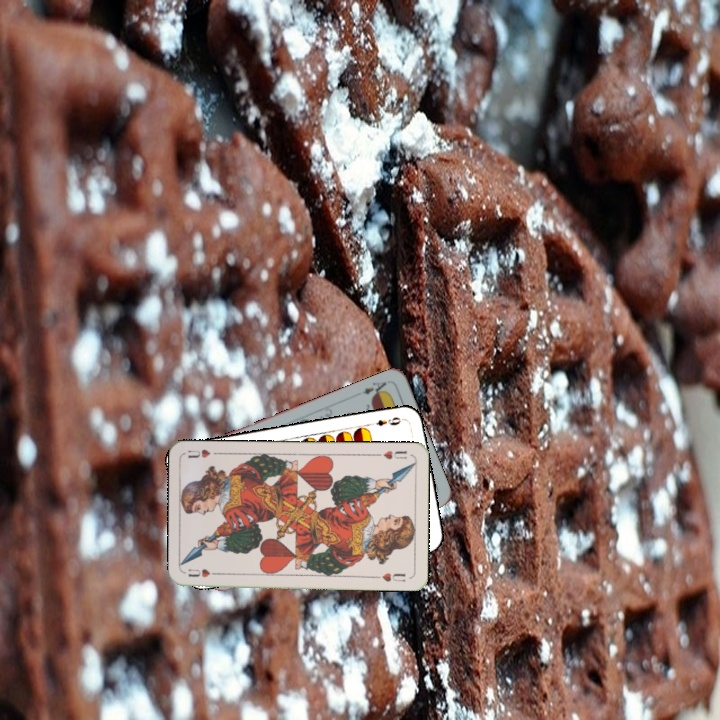E9: (372, 413, 406, 429)
EA: (358, 377, 390, 400)
HU: (184, 565, 223, 580), (372, 447, 409, 462)
